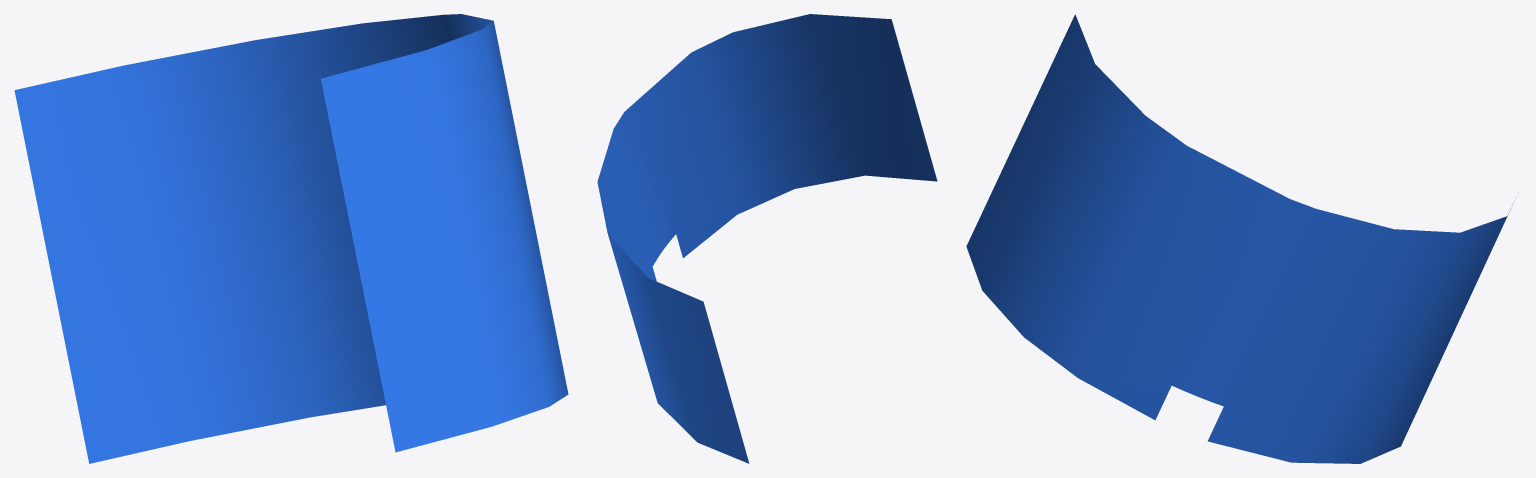
The model's file is original-13.obj.
3 renders of one model, left to right at view 1: azimuth 30°, elevation 25°; view 2: azimuth 150°, elevation 25°; view 3: azimuth 270°, elevation 25°, orthographic. The views are drawn at different scales.
Visible parts, largest first — view 1: Group13/mesh13/mesh13-geometry#mesh13-geometry; view 2: Group13/mesh13/mesh13-geometry#mesh13-geometry; view 3: Group13/mesh13/mesh13-geometry#mesh13-geometry.
Boxes of the visible parts, x1,y1,x2,y2 form: Group13/mesh13/mesh13-geometry#mesh13-geometry: [14, 14, 568, 463]; Group13/mesh13/mesh13-geometry#mesh13-geometry: [597, 14, 937, 463]; Group13/mesh13/mesh13-geometry#mesh13-geometry: [966, 14, 1515, 463].
Size of the model in its own units: 0.045 by 0.0829 by 0.1031.
